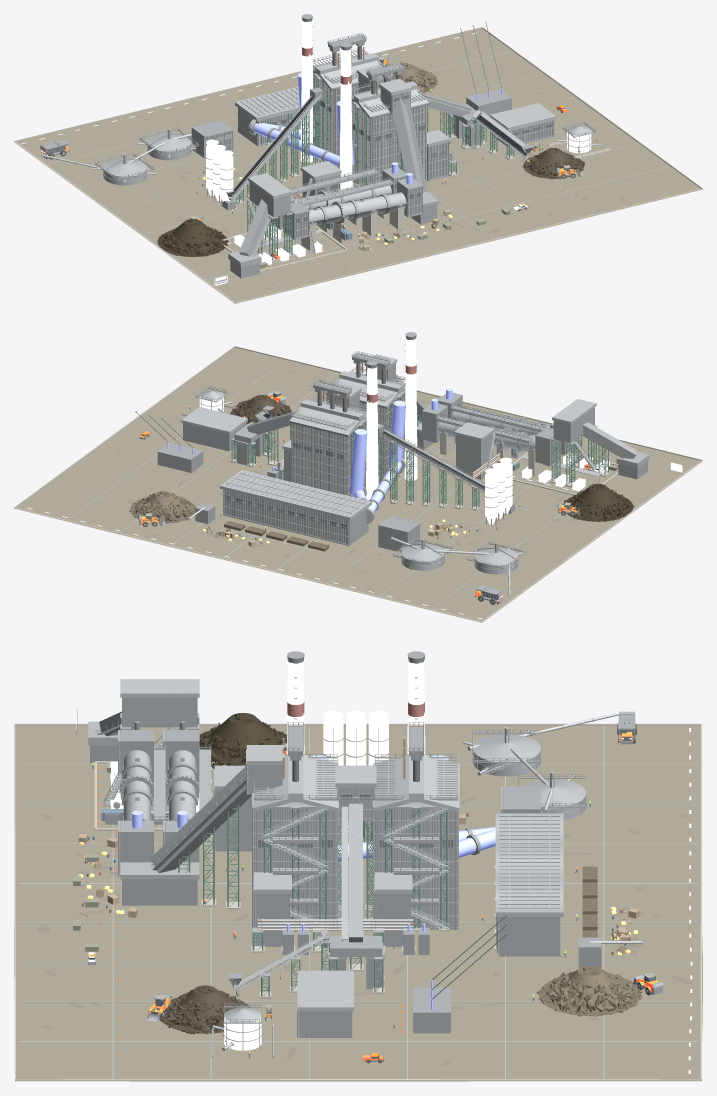
File: lionsmelter.glb
The picture shows the model from 3 angles, top to bottom: view 1: azimuth 30°, elevation 25°; view 2: azimuth 150°, elevation 25°; view 3: azimuth 270°, elevation 25°; orthographic projection. The views are drawn at different scales.
Visible parts, largest first — view 1: structure/mat_8b8166_48, galv/galv, structure/clad, structure/seam, structure/roof, structure/steelD, structure/green, structure/concrete, structure/white, structure/duct, structure/silo, fleet/fleet_m3/gray (+12 smaller); view 2: structure/mat_8b8166_48, structure/clad, structure/seam, structure/roof, galv/galv, structure/steelD, structure/green, structure/concrete, structure/white, structure/duct, structure/silo, structure/waste (+14 smaller); view 3: structure/mat_8b8166_48, structure/clad, galv/galv, structure/roof, structure/seam, structure/steelD, structure/green, structure/concrete, structure/white, structure/silo, structure/waste, scree/waste (+12 smaller).
Boxes of the visible parts, left/top/right/bottom form: structure/mat_8b8166_48: left=14, top=28, right=702, bottom=303; galv/galv: left=93, top=22, right=601, bottom=267; structure/clad: left=238, top=73, right=554, bottom=256; structure/seam: left=47, top=41, right=668, bottom=289; structure/roof: left=235, top=53, right=556, bottom=247; structure/steelD: left=56, top=14, right=532, bottom=278; structure/green: left=236, top=79, right=514, bottom=259; structure/concrete: left=14, top=27, right=702, bottom=303; structure/white: left=21, top=20, right=591, bottom=243; structure/duct: left=254, top=72, right=502, bottom=184; structure/silo: left=206, top=139, right=233, bottom=201; fleet/fleet_m3/gray: left=309, top=192, right=406, bottom=225; structure/mat_8b8166_48: left=14, top=347, right=702, bottom=622; structure/clad: left=183, top=363, right=636, bottom=545; structure/seam: left=48, top=360, right=668, bottom=608; structure/roof: left=181, top=354, right=601, bottom=520; galv/galv: left=136, top=344, right=649, bottom=574; structure/steelD: left=157, top=332, right=647, bottom=588; structure/green: left=231, top=397, right=608, bottom=508; structure/concrete: left=14, top=346, right=702, bottom=622; structure/white: left=27, top=338, right=567, bottom=618; structure/duct: left=167, top=388, right=452, bottom=512; structure/silo: left=485, top=457, right=512, bottom=524; structure/waste: left=130, top=491, right=329, bottom=551; structure/mat_8b8166_48: left=14, top=725, right=702, bottom=1081; structure/clad: left=99, top=697, right=559, bottom=1037; galv/galv: left=88, top=677, right=641, bottom=1050; structure/roof: left=120, top=679, right=563, bottom=1011; structure/seam: left=18, top=726, right=698, bottom=1078; structure/steelD: left=90, top=651, right=601, bottom=1033; structure/green: left=120, top=718, right=497, bottom=996; structure/concrete: left=14, top=723, right=702, bottom=1080; structure/white: left=211, top=660, right=692, bottom=1073; structure/silo: left=323, top=711, right=388, bottom=765; structure/waste: left=539, top=866, right=640, bottom=1016; scree/waste: left=537, top=966, right=642, bottom=1016.
Size of the model in its own units: 223 by 65.41 by 183.
48 materials, 7 textured.
